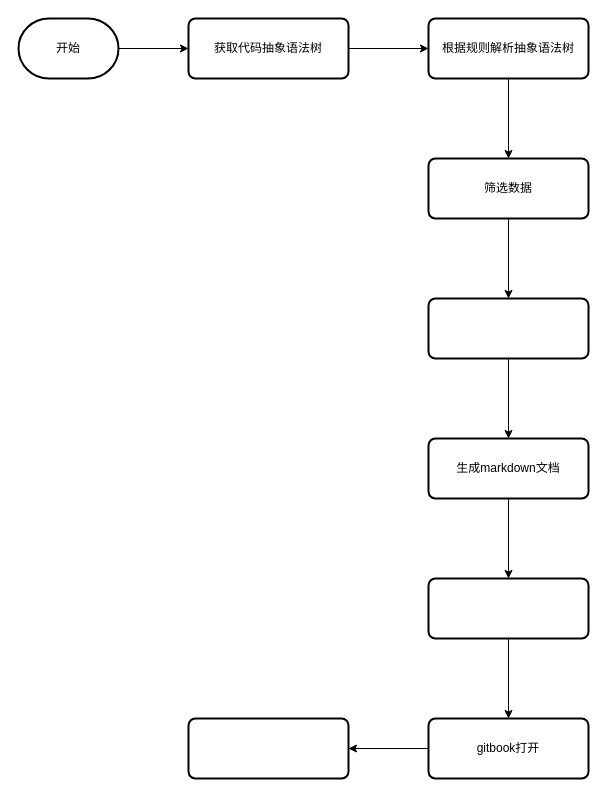
This 606x796 diagram has some shape labels left out. The centre of each missing label's shape, as x and y in pixels:
"上传git" belongs at (508,608).
"格式化编排" belongs at (508,328).
"结束" belongs at (268,748).
